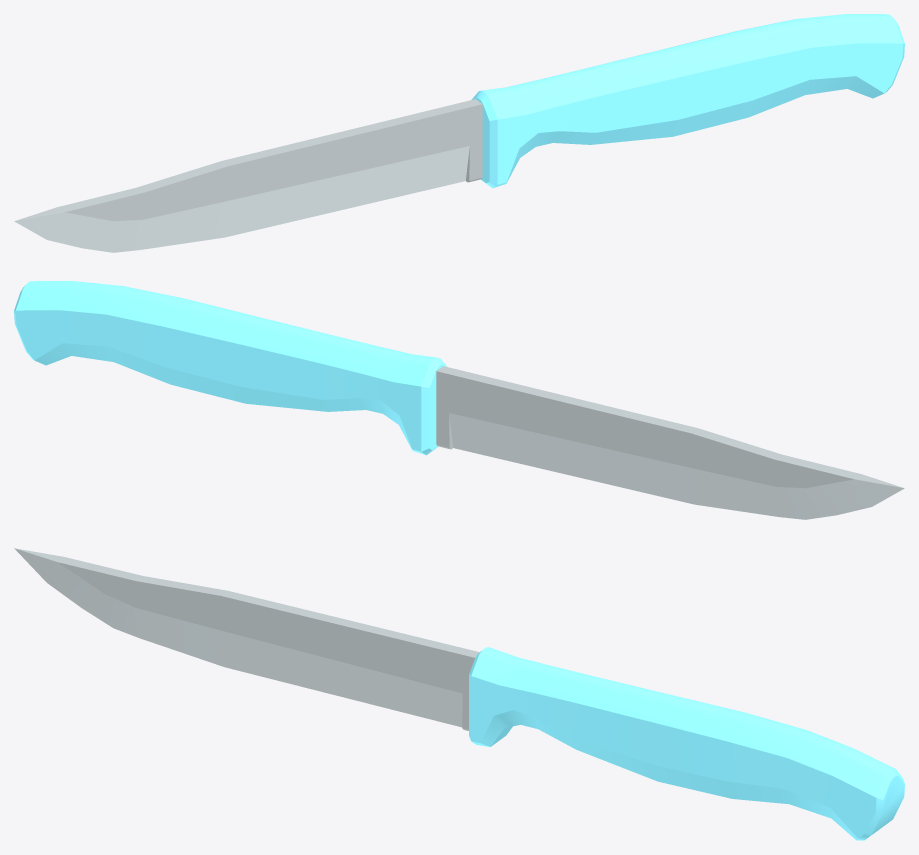
Rendered from Knife.fbx.
The picture shows the model from 3 angles, top to bottom: view 1: azimuth 30°, elevation 25°; view 2: azimuth 150°, elevation 25°; view 3: azimuth 330°, elevation 25°; orthographic projection.
Visible parts, largest first — view 1: stabby; view 2: stabby; view 3: stabby.
Boxes of the visible parts, x1,y1,x2,y2 form: stabby: (14,14,904,252); stabby: (14,281,904,519); stabby: (14,548,904,840).
Bounding box in the file's own units: 8.55 × 0.8652 × 0.4487.
